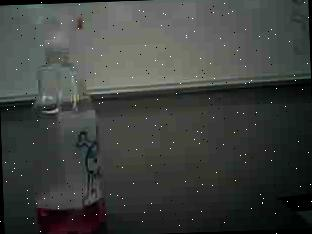hazard: (22, 10, 107, 234)
